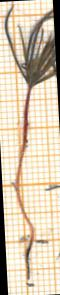flower: (5, 7, 56, 86)
root: (25, 239, 32, 279)
stem: (15, 87, 33, 241)
